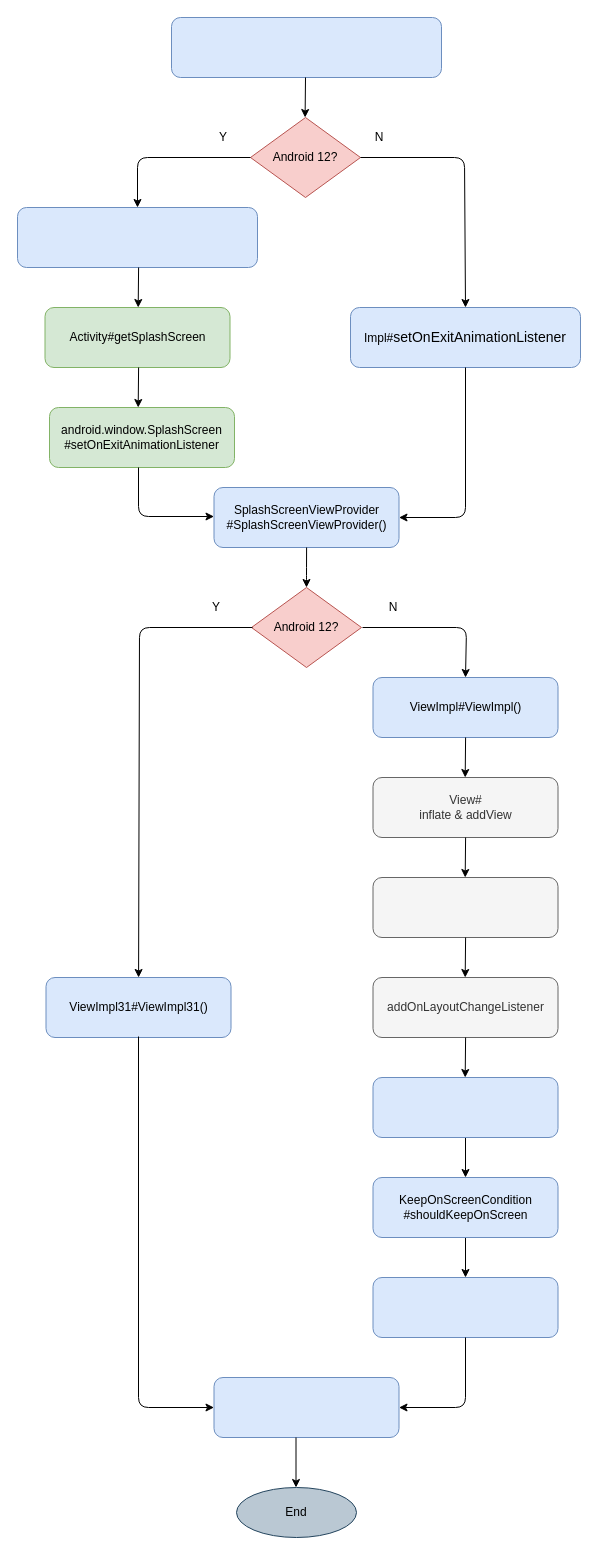
This 598x1555 diagram has some shape labels left out. Here are the shapes that lost their labels. From the top down, the centre of each, then its label:
At (x=306, y=47): "SplashScreen # setOnExitAnimationListener".
At (x=137, y=237): "Impl31# setOnExitAnimationListener".
At (x=465, y=907): "View#setBackground & setBackgroundResource".
At (x=465, y=1107): "adjustInsets".
At (x=465, y=1307): "dispatchOnExitAnimation".
At (x=306, y=1407): "OnExitAnimationListener #onSplashScreenExit".
